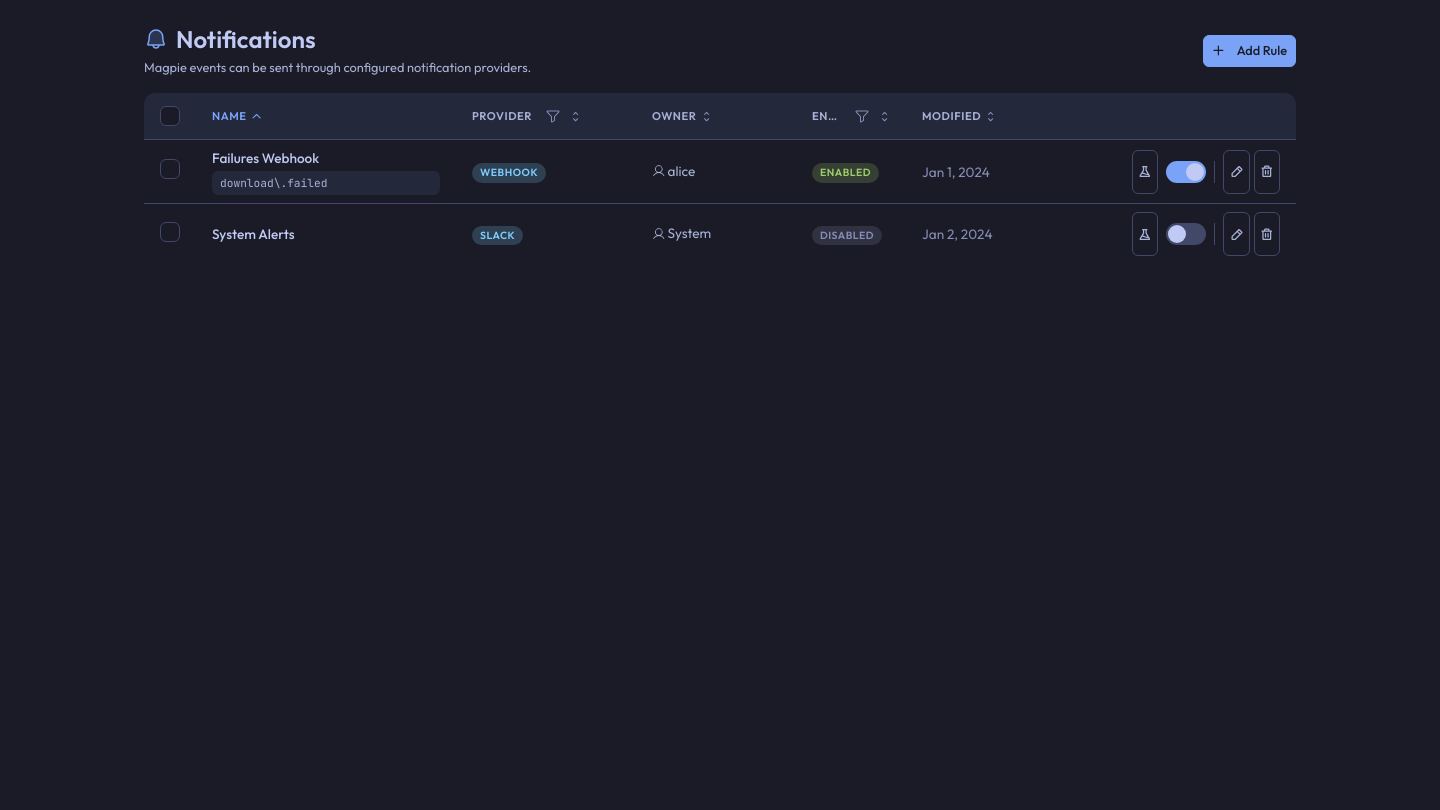
Test: NotificationsPage row actions › says the test was sent, not delivered, when the provider accepted it
Click the button named "test failures webhook" at (1145, 172), box [1132,150,1158,194]
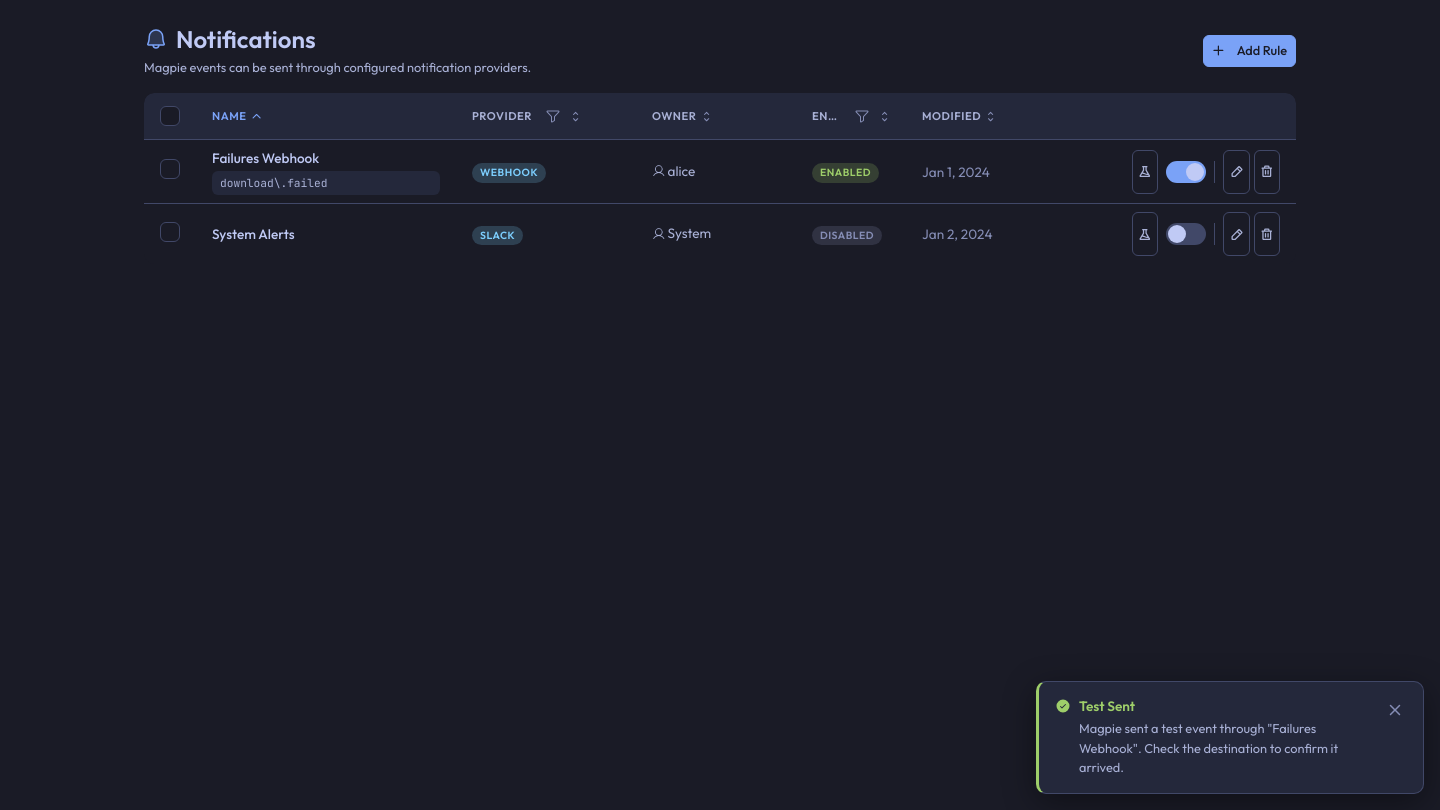
Expected: the text "Check the destination to confirm it arrived." is shown, [1079,720,1338,775]
